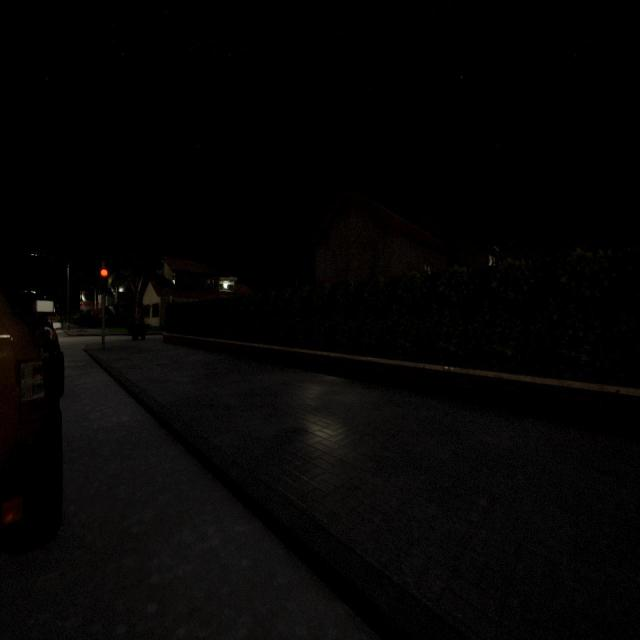Vehicle: (0, 285, 64, 549)
traffic_light: (100, 267, 108, 295)
